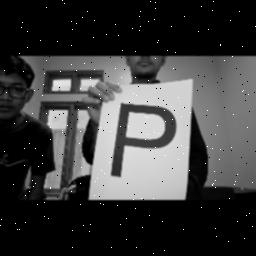p: (108, 96, 182, 188)
